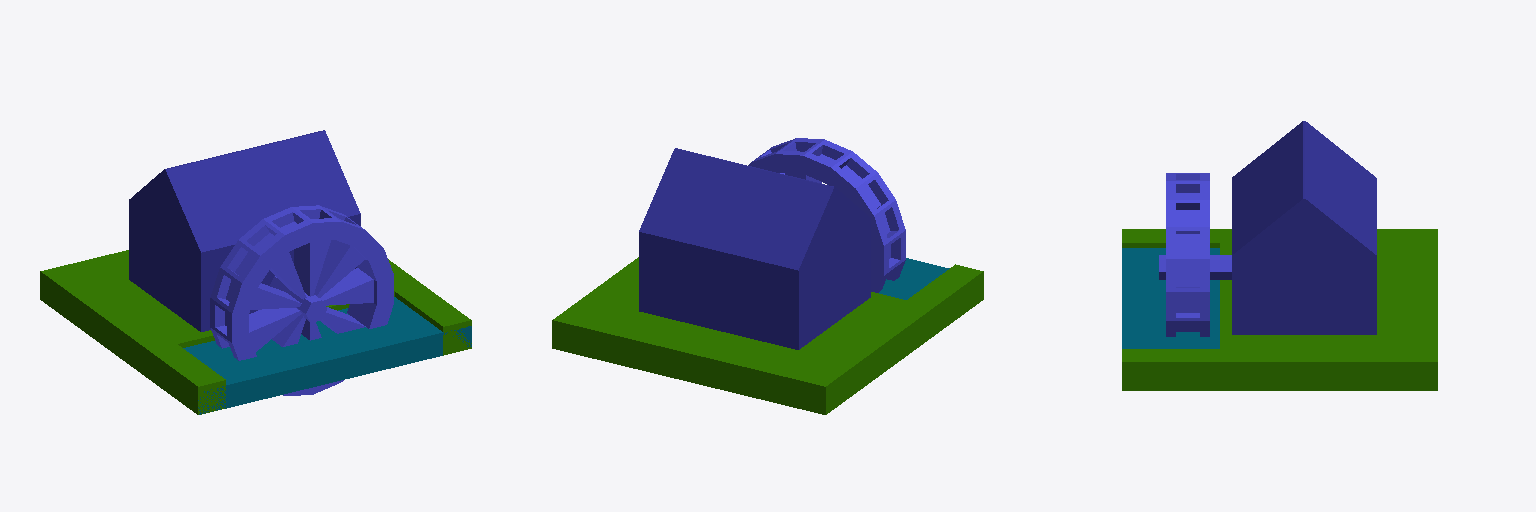
File: Grinder1.obj
3 views of the same model, side by side, from view 1: azimuth 30°, elevation 25°; view 2: azimuth 150°, elevation 25°; view 3: azimuth 270°, elevation 25° (orthographic).
Parts seen in each view (by area): view 1: Box921, Mill001, Tilebase129, Tilebase130, Cylinder138; view 2: Box921, Tilebase129, Mill001, Tilebase130; view 3: Box921, Tilebase129, Mill001, Tilebase130, Cylinder138.
Boxes of the visible parts, x1,y1,x2,y2 form: Box921: [129, 130, 360, 331]; Mill001: [210, 205, 393, 395]; Tilebase129: [40, 250, 471, 414]; Tilebase130: [183, 297, 471, 414]; Cylinder138: [270, 276, 326, 322]; Box921: [639, 148, 870, 349]; Tilebase129: [552, 257, 983, 414]; Mill001: [748, 138, 905, 292]; Tilebase130: [879, 258, 949, 299]; Box921: [1232, 121, 1376, 334]; Tilebase129: [1122, 229, 1437, 390]; Mill001: [1166, 173, 1209, 336]; Tilebase130: [1122, 248, 1219, 348]; Cylinder138: [1159, 255, 1231, 279].
Size of the model in its own units: 10 by 6.78 by 10.